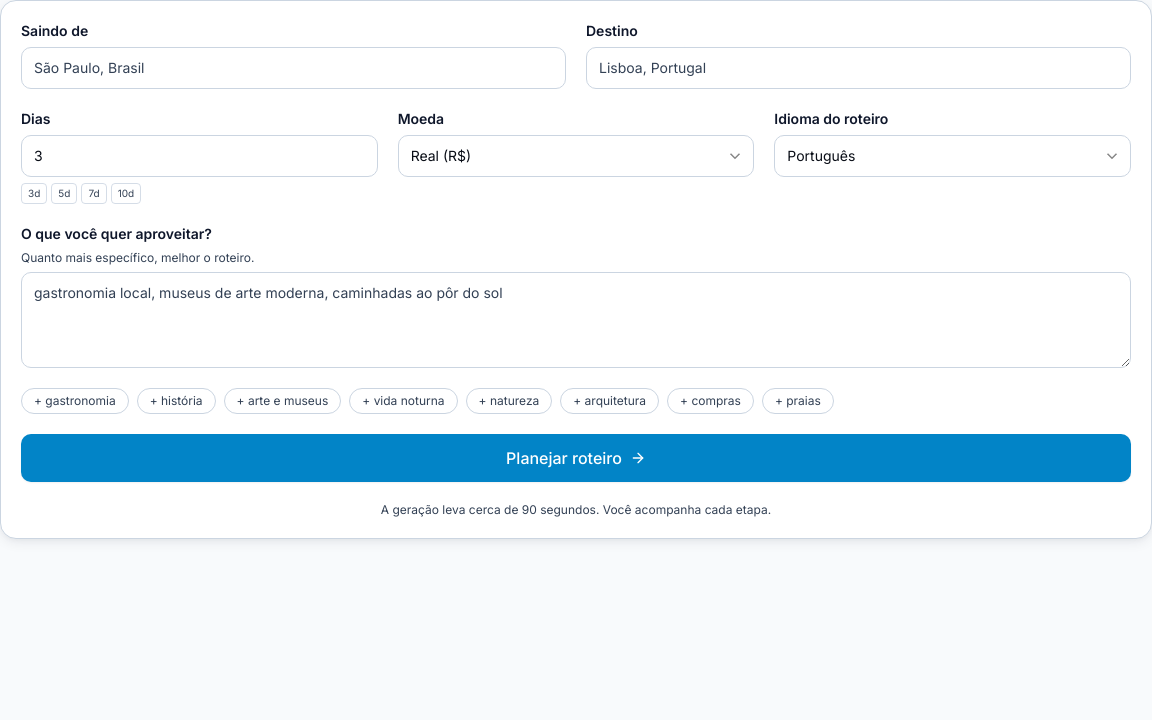
Test: BriefingForm › acrescenta o interesse escolhido no chip
Click the button "+ gastronomia": (75, 401) [21, 388, 129, 414]
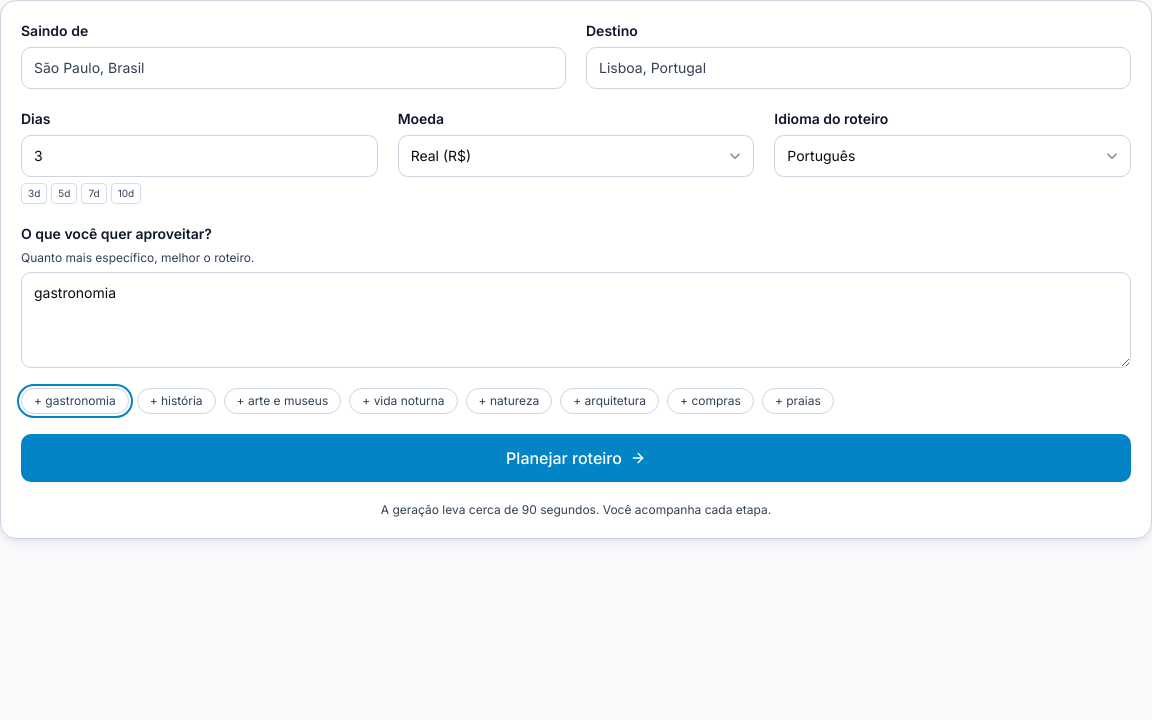
Click the button "+ natureza": (509, 401) [466, 388, 552, 414]
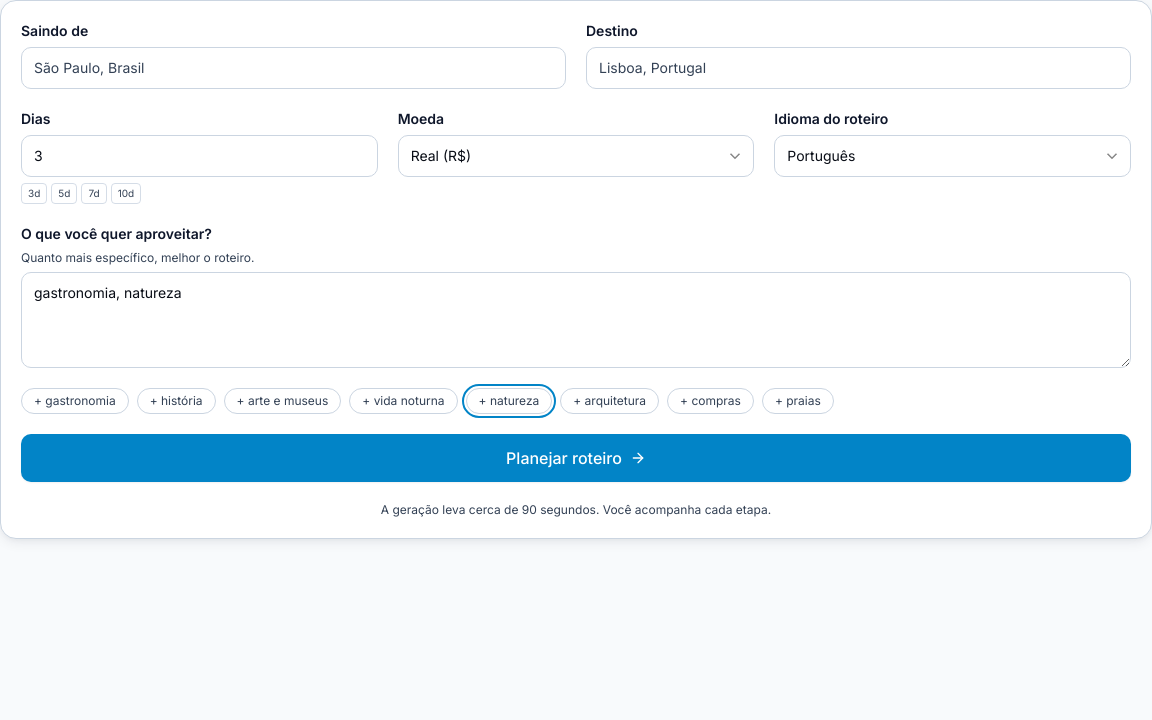
Expected: the text box labelled "O que você quer aproveitar?" holds "gastronomia, natureza", [21, 272, 1131, 368]
